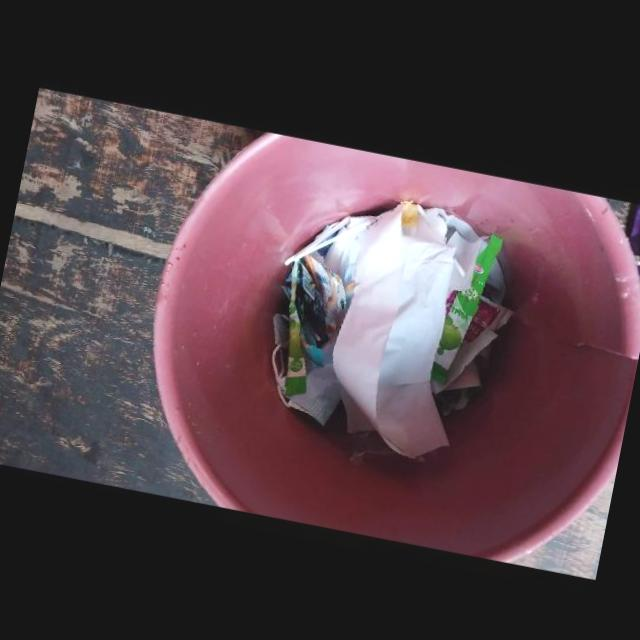bao_bi_thuc_pham: (430, 233, 503, 394), (285, 261, 306, 396)
giay: (333, 203, 455, 458)
